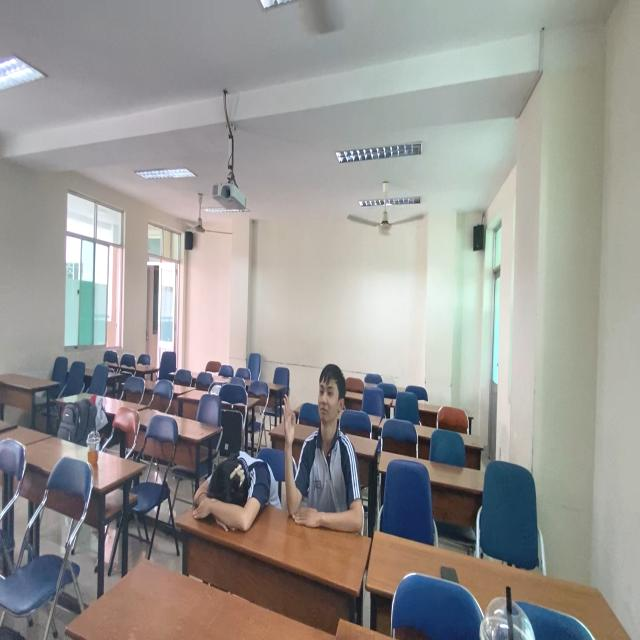raise_hand: (282, 354, 371, 531)
sleep: (187, 441, 286, 541)
